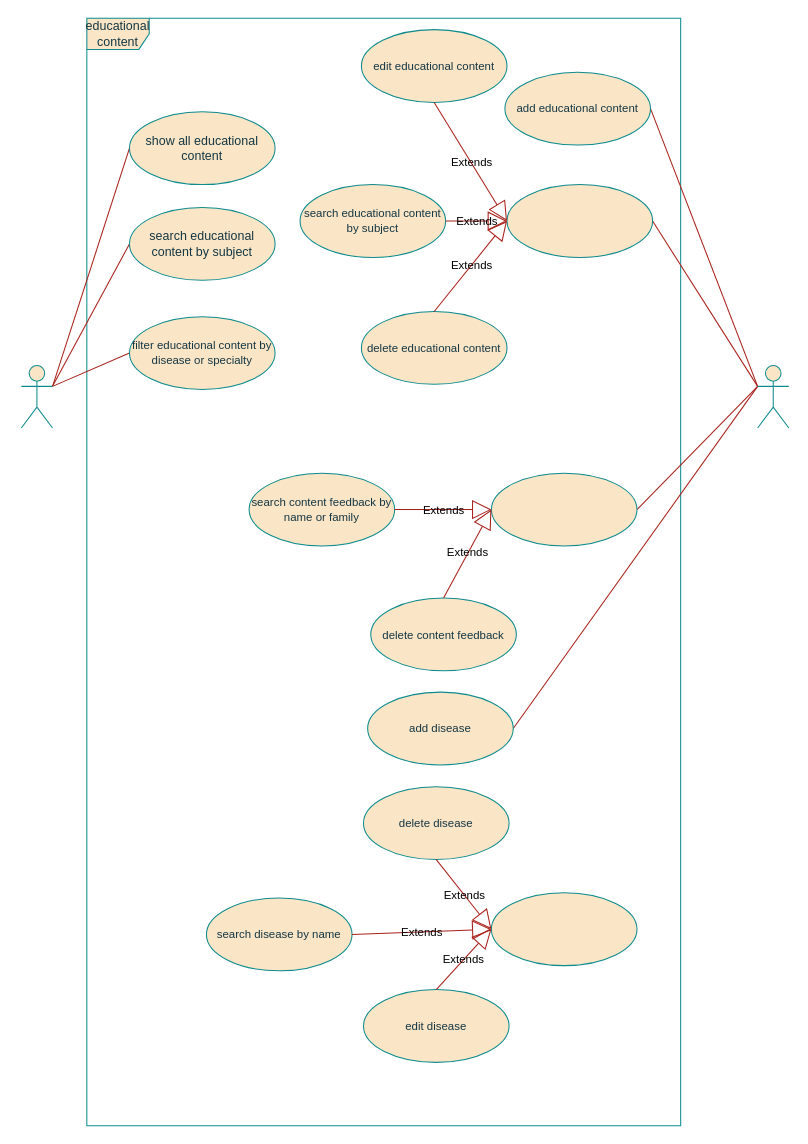
The diagram is 808 pixels wide and 1144 high, and some of its shapes have lost their labels. Each missing label, with the box of its shape:
adnim: (757, 365, 789, 428)
patient: (20, 365, 53, 428)
show all content feedback: (490, 472, 637, 546)
show all disease: (490, 892, 637, 966)
show list of all educational content: (506, 184, 653, 257)
